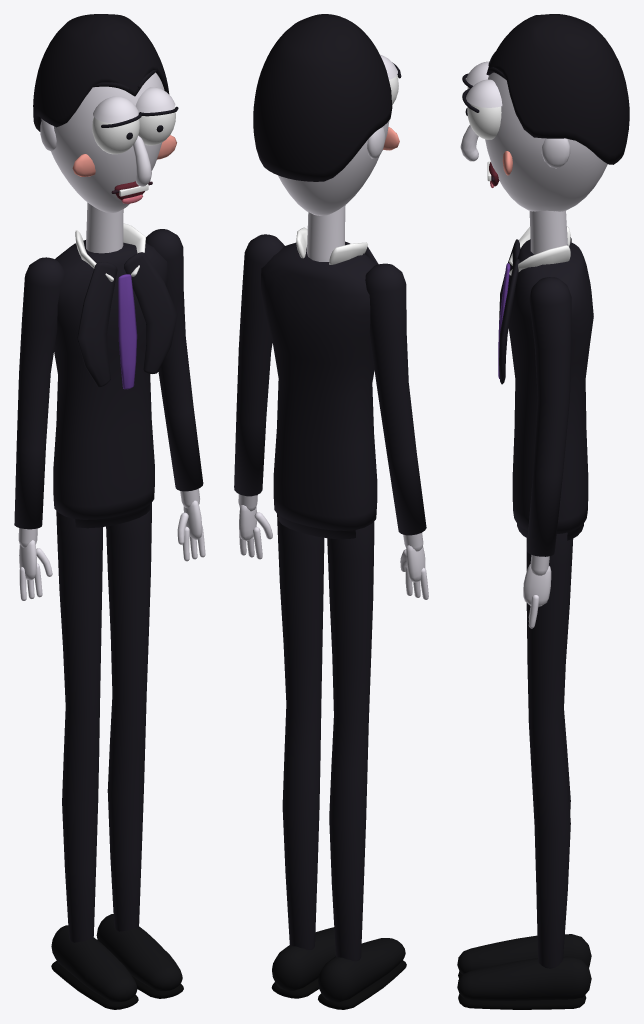
Rendered from m_lugubre.glb.
3 views of the same model, side by side, from view 1: azimuth 30°, elevation 25°; view 2: azimuth 150°, elevation 25°; view 3: azimuth 270°, elevation 25° (orthographic). The views are drawn at different scales.
Parts seen in each view (by area): view 1: Torso_top, Leg_0_limb, Leg_1_limb, Hair_cap, Arm_0_sleeve, Arm_1_sleeve, Head_skull, Leg_0_shoe, Detail_lapel_1, Leg_1_shoe, Detail_lapel_-1, Detail_tie (+13 smaller); view 2: Torso_top, Hair_cap, Leg_0_limb, Leg_1_limb, Arm_0_sleeve, Arm_1_sleeve, Leg_0_shoe, Head_skull, Leg_1_shoe, Neck, Leg_0_sole, Torso_pants (+5 smaller); view 3: Hair_cap, Leg_1_limb, Torso_top, Arm_1_sleeve, Head_skull, Leg_1_shoe, Leg_0_shoe, Neck, Leg_1_sole, Detail_lapel_1, Eye_1_white, Arm_1_hand (+4 smaller).
Part boxes in pixels (bbox=[...]): Torso_top: bbox=[53, 240, 167, 519]; Leg_0_limb: bbox=[56, 511, 102, 942]; Leg_1_limb: bbox=[106, 503, 151, 931]; Hair_cap: bbox=[33, 14, 169, 131]; Arm_0_sleeve: bbox=[14, 257, 64, 529]; Arm_1_sleeve: bbox=[145, 229, 203, 491]; Head_skull: bbox=[41, 72, 164, 212]; Leg_0_shoe: bbox=[51, 925, 137, 1001]; Detail_lapel_1: bbox=[124, 252, 177, 373]; Leg_1_shoe: bbox=[96, 914, 182, 990]; Detail_lapel_-1: bbox=[77, 262, 117, 387]; Detail_tie: bbox=[118, 274, 137, 389]; Torso_top: bbox=[261, 241, 377, 530]; Hair_cap: bbox=[253, 14, 392, 181]; Leg_0_limb: bbox=[327, 521, 374, 961]; Leg_1_limb: bbox=[277, 514, 324, 949]; Arm_0_sleeve: bbox=[365, 263, 426, 535]; Arm_1_sleeve: bbox=[234, 234, 284, 496]; Leg_0_shoe: bbox=[318, 938, 405, 1002]; Head_skull: bbox=[278, 121, 389, 215]; Leg_1_shoe: bbox=[272, 927, 335, 990]; Neck: bbox=[307, 205, 345, 261]; Leg_0_sole: bbox=[318, 960, 406, 1009]; Torso_pants: bbox=[278, 515, 355, 539]; Hair_cap: bbox=[486, 14, 629, 164]; Leg_1_limb: bbox=[526, 532, 573, 968]; Torso_top: bbox=[508, 239, 593, 533]; Arm_1_sleeve: bbox=[526, 277, 571, 556]; Head_skull: bbox=[485, 72, 607, 211]; Leg_1_shoe: bbox=[457, 956, 591, 1000]; Leg_0_shoe: bbox=[457, 934, 591, 974]; Neck: bbox=[529, 210, 567, 254]; Leg_1_sole: bbox=[458, 994, 586, 1009]; Detail_lapel_1: bbox=[499, 259, 520, 384]; Eye_1_white: bbox=[467, 103, 501, 139]; Arm_1_hand: bbox=[523, 564, 551, 606].
Bounding box in the file's own units: 0.3983 × 1.97 × 0.3143.
